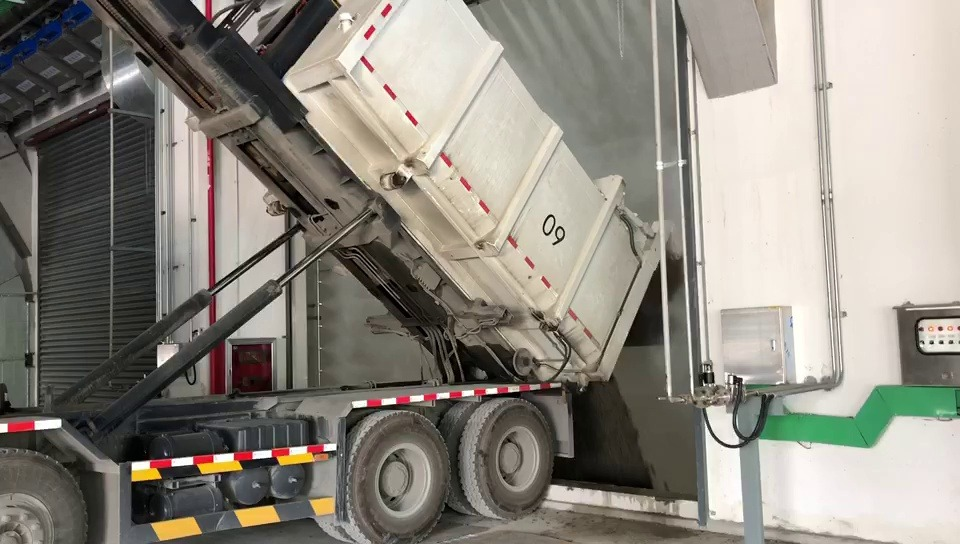truck: (0, 0, 672, 544)
